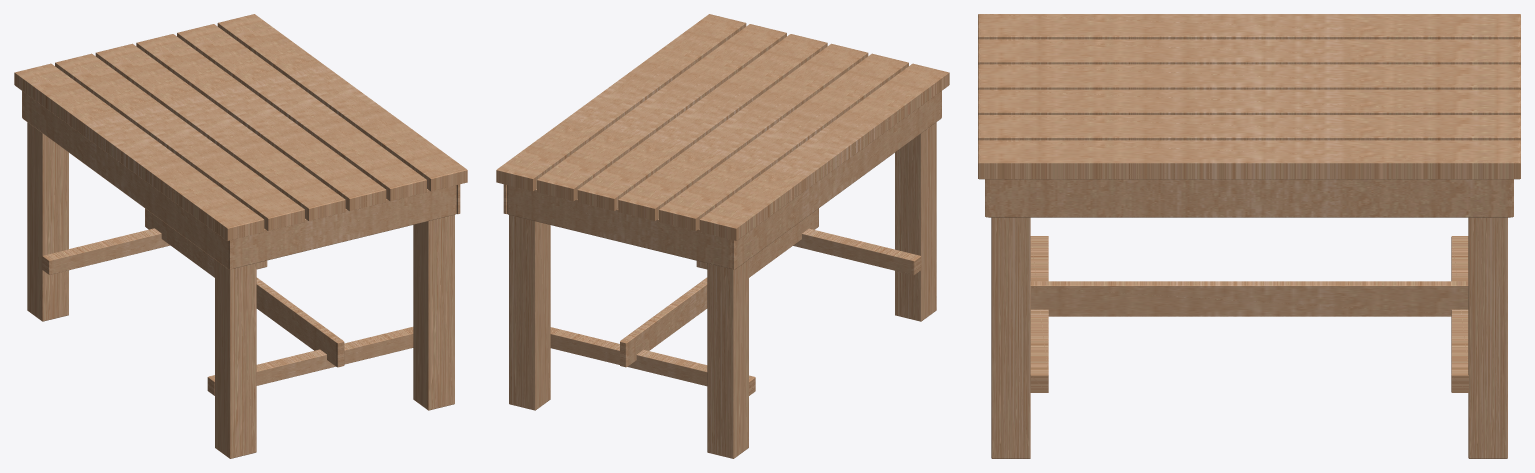
Rendered from desk.glb.
3 views of the same model, side by side, from view 1: azimuth 30°, elevation 25°; view 2: azimuth 150°, elevation 25°; view 3: azimuth 270°, elevation 25° (orthographic). The views are drawn at different scales.
Visible parts, largest first — view 1: Plane, Cube, Plane.002, Plane.001, Plane.003, Plane.004; view 2: Plane, Cube, Plane.002, Plane.001, Plane.003, Plane.004; view 3: Plane, Plane.001, Cube, Plane.004, Plane.003.
Boxes of the visible parts, x1=… form: Plane: x1=14, y1=14, x2=467, y2=240; Cube: x1=27, y1=122, x2=454, y2=458; Plane.002: x1=232, y1=185, x2=456, y2=268; Plane.001: x1=22, y1=91, x2=460, y2=269; Plane.003: x1=42, y1=228, x2=413, y2=395; Plane.004: x1=145, y1=208, x2=344, y2=367; Plane: x1=496, y1=14, x2=949, y2=240; Cube: x1=509, y1=122, x2=936, y2=458; Plane.002: x1=507, y1=185, x2=731, y2=268; Plane.001: x1=503, y1=91, x2=941, y2=269; Plane.003: x1=550, y1=228, x2=921, y2=395; Plane.004: x1=620, y1=208, x2=818, y2=367; Plane: x1=978, y1=14, x2=1520, y2=179; Plane.001: x1=985, y1=179, x2=1513, y2=217; Cube: x1=991, y1=217, x2=1507, y2=458; Plane.004: x1=1030, y1=281, x2=1468, y2=316; Plane.003: x1=1030, y1=236, x2=1468, y2=392.
Size of the model in its own units: 6.56 by 6.17 by 10.09.
Materials: 1 (1 with a texture image).
